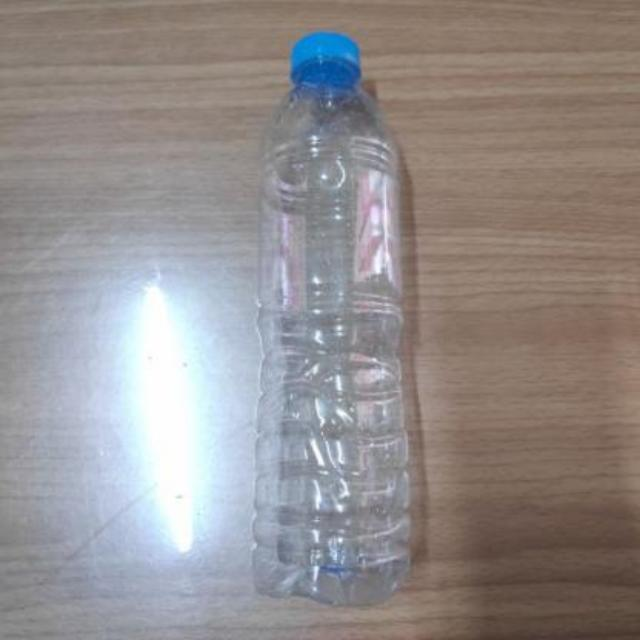bottle: (238, 15, 434, 615)
